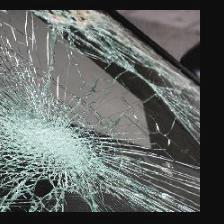glass_shatter: (0, 48, 142, 205)
